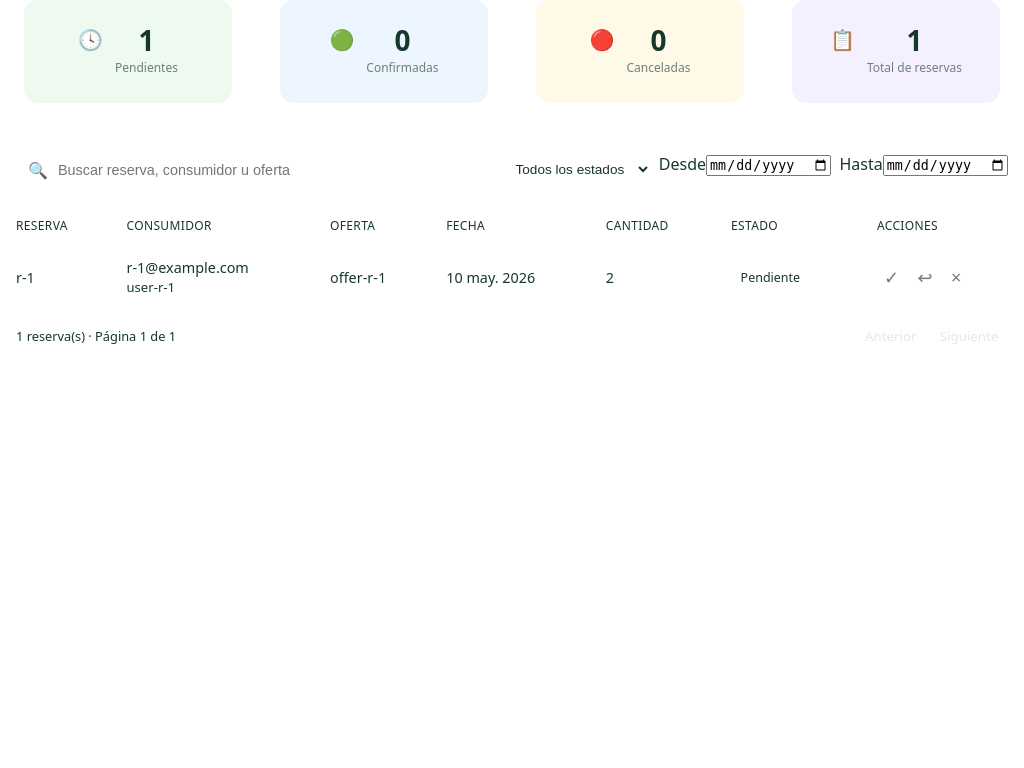
Test: ReservationsPanel › deletes a reservation only after confirmation
Click the button named "Eliminar reserva r-1" at point(956, 277), box [944, 262, 969, 292]
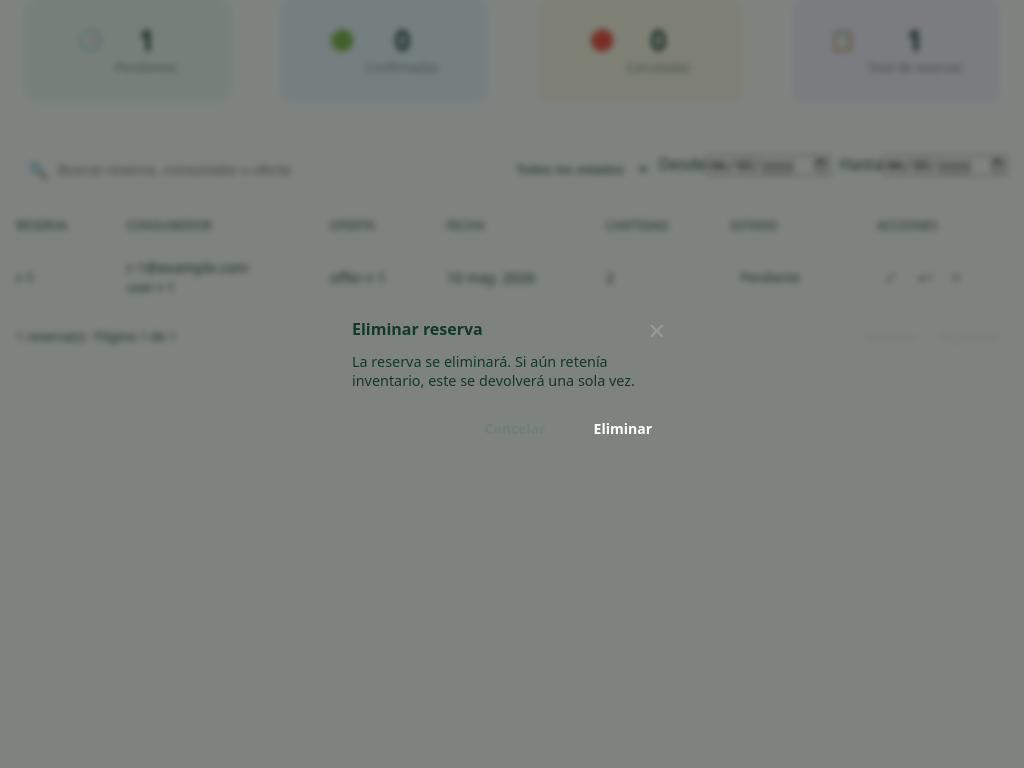
Expected: the dialog shows "inventario", [352, 352, 635, 390]
Click the button "Eliminar" at point(623, 429), box [574, 407, 672, 450]
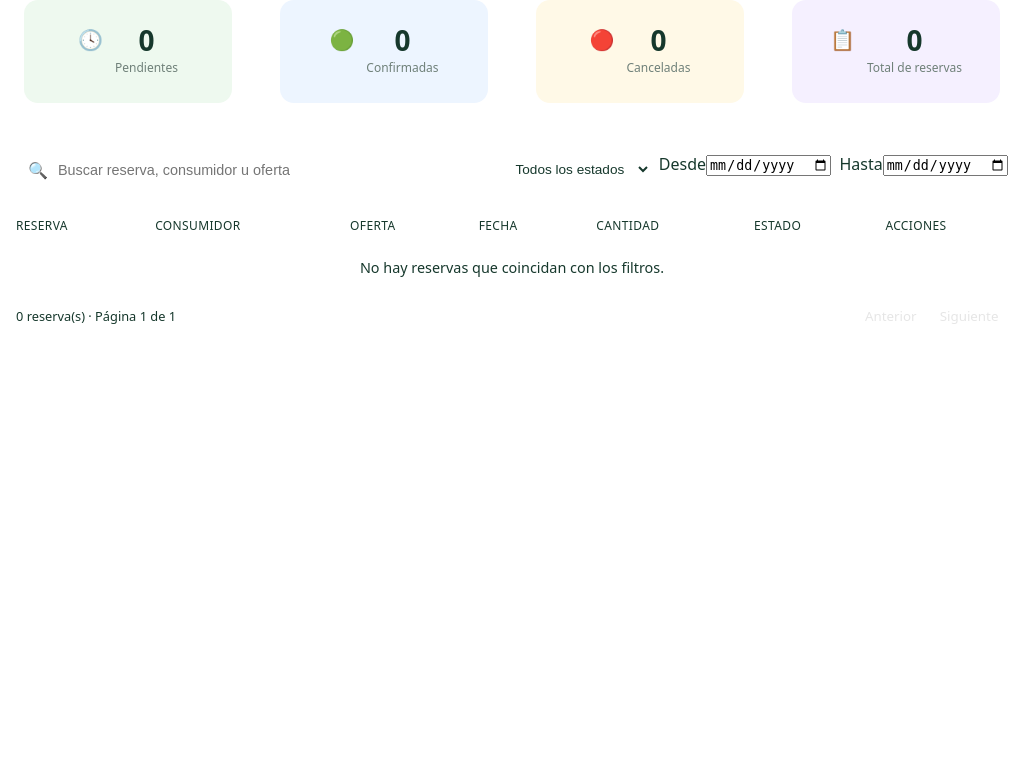
Expected: the text "No hay reservas que coincidan con los filtros." is shown, [0, 246, 1023, 289]
